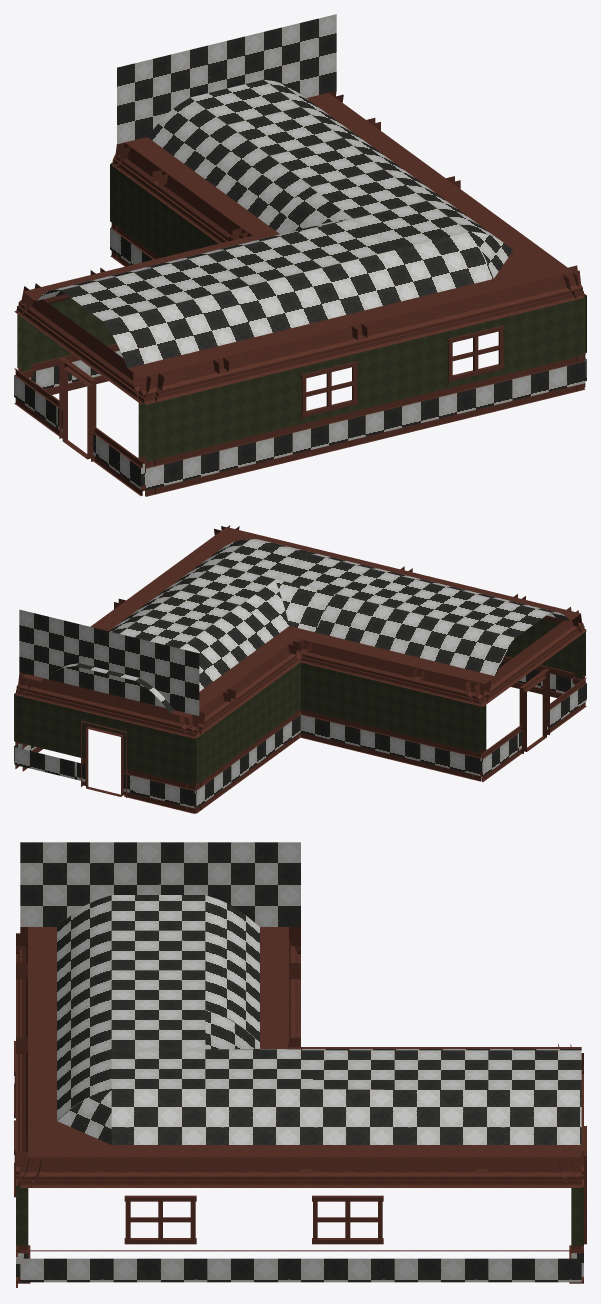
File: Room_5 v2.fbx
3 renders of one model, top to bottom at view 1: azimuth 30°, elevation 25°; view 2: azimuth 150°, elevation 25°; view 3: azimuth 270°, elevation 25°, orthographic. The views are drawn at different scales.
Visible parts, largest first — view 1: Plane.001; view 2: Plane.001; view 3: Plane.001.
Part boxes in pixels (x1=…): Plane.001: x1=14, y1=14, x2=586, y2=496; Plane.001: x1=14, y1=525, x2=586, y2=813; Plane.001: x1=14, y1=842, x2=586, y2=1287.
Size of the model in its own units: 1229 by 500 by 1224.
